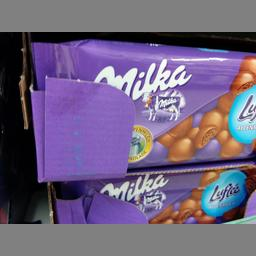chocolate: (32, 36, 255, 164), (62, 167, 255, 224)
